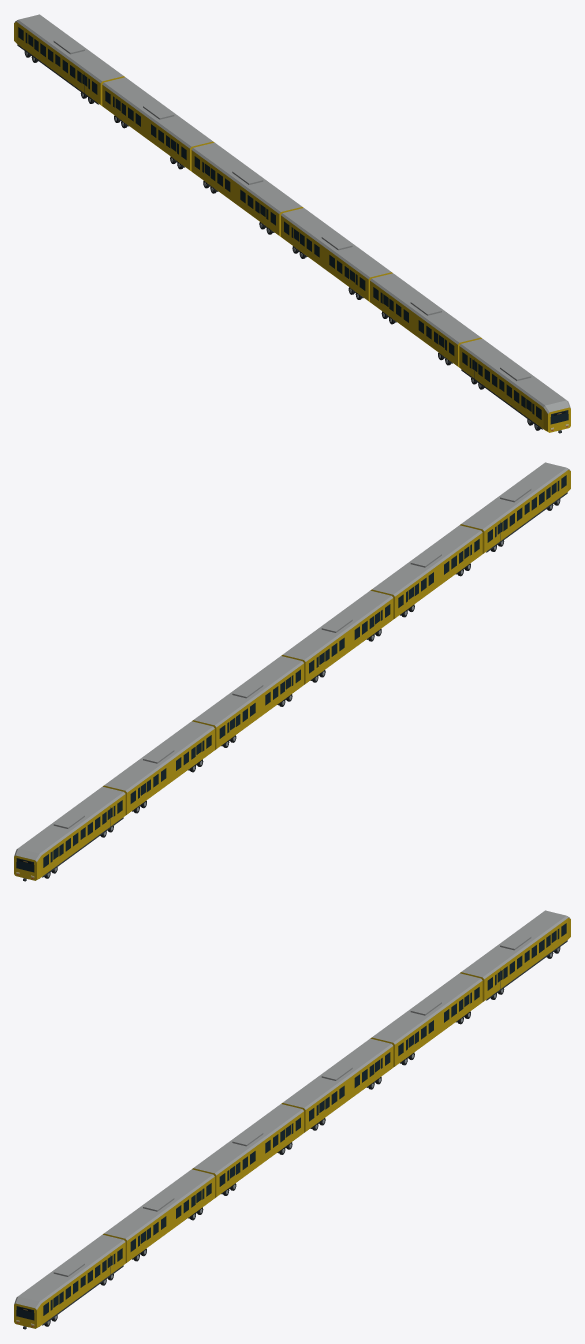
The model's file is ubahn-h.glb.
The picture shows the model from 3 angles, top to bottom: view 1: azimuth 30°, elevation 25°; view 2: azimuth 150°, elevation 25°; view 3: azimuth 330°, elevation 25°; orthographic projection.
Parts seen in each view (by area): view 1: ubahn-h.segment-01.005, ubahn-h.segment-04.005, ubahn-h.segment-05.005, ubahn-h.segment-02.005, ubahn-h.segment-03.005, ubahn-h.segment-06.005; view 2: ubahn-h.segment-06.005, ubahn-h.segment-03.005, ubahn-h.segment-02.005, ubahn-h.segment-05.005, ubahn-h.segment-04.005, ubahn-h.segment-01.005; view 3: ubahn-h.segment-01.005, ubahn-h.segment-04.005, ubahn-h.segment-05.005, ubahn-h.segment-02.005, ubahn-h.segment-03.005, ubahn-h.segment-06.005.
Boxes of the visible parts, left/top/right/bottom form: ubahn-h.segment-01.005: left=459, top=338, right=570, bottom=433; ubahn-h.segment-04.005: left=191, top=142, right=303, bottom=236; ubahn-h.segment-05.005: left=102, top=77, right=214, bottom=171; ubahn-h.segment-02.005: left=370, top=273, right=481, bottom=367; ubahn-h.segment-03.005: left=281, top=208, right=392, bottom=301; ubahn-h.segment-06.005: left=14, top=14, right=124, bottom=105; ubahn-h.segment-06.005: left=14, top=786, right=125, bottom=881; ubahn-h.segment-03.005: left=281, top=590, right=393, bottom=684; ubahn-h.segment-02.005: left=370, top=525, right=482, bottom=619; ubahn-h.segment-05.005: left=103, top=721, right=214, bottom=815; ubahn-h.segment-04.005: left=192, top=656, right=303, bottom=749; ubahn-h.segment-01.005: left=460, top=462, right=570, bottom=553; ubahn-h.segment-01.005: left=14, top=1234, right=125, bottom=1329; ubahn-h.segment-04.005: left=281, top=1038, right=393, bottom=1132; ubahn-h.segment-05.005: left=370, top=973, right=482, bottom=1067; ubahn-h.segment-02.005: left=103, top=1169, right=214, bottom=1263; ubahn-h.segment-03.005: left=192, top=1104, right=303, bottom=1197; ubahn-h.segment-06.005: left=460, top=910, right=570, bottom=1001.
Size of the model in its own units: 2.7 by 3.36 by 99.14.
